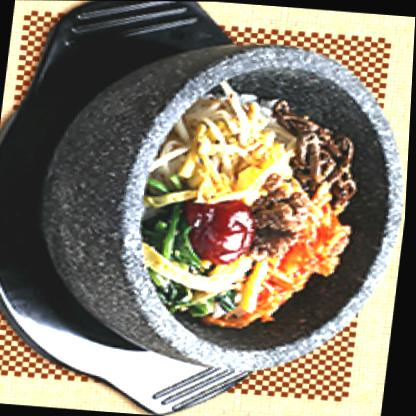bibimbap: (49, 43, 411, 367)
